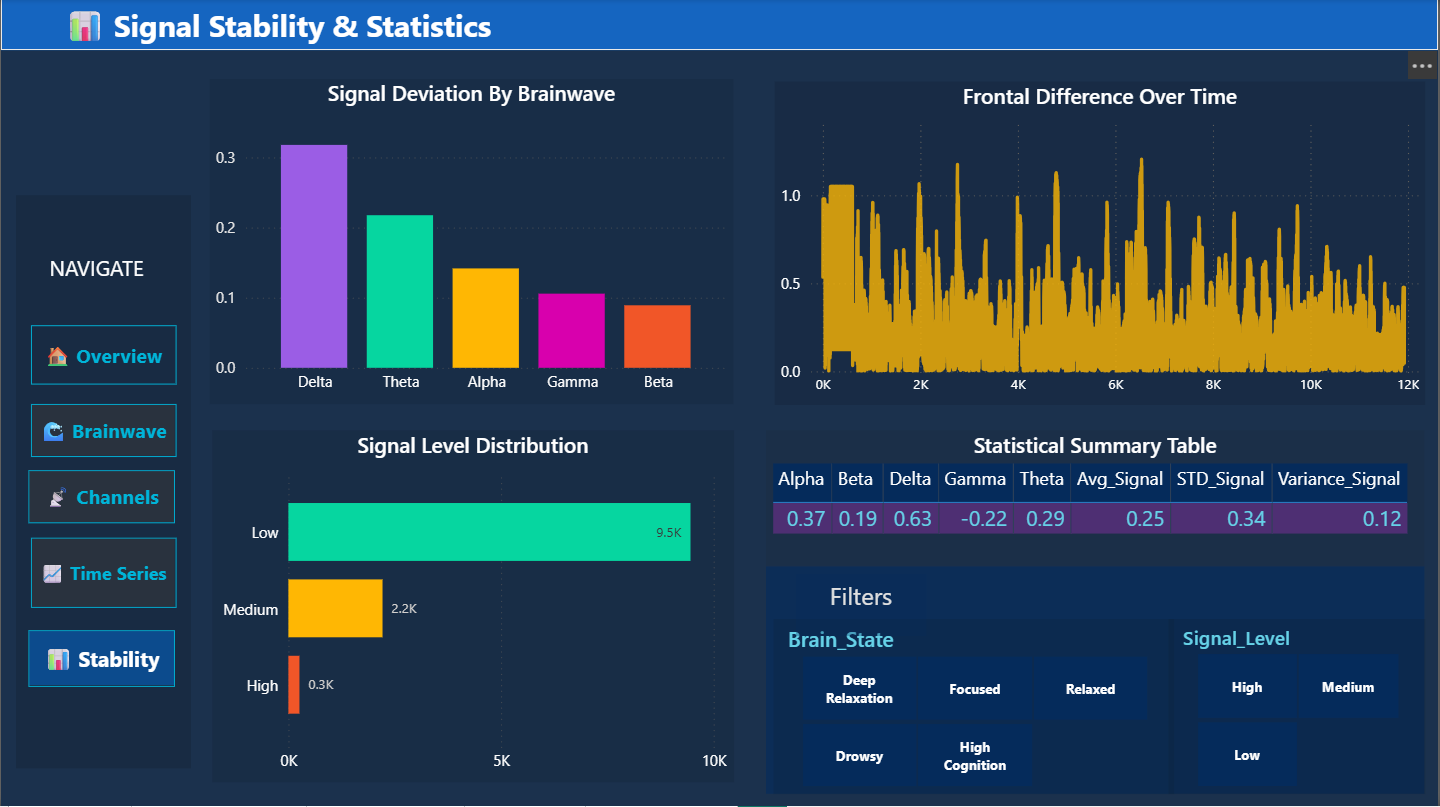

The dashboard page shown, as its layout file describes it:
{"tool":"powerbi","page":{"name":"Signal Stability","canvas":[1280,720],"ordinal":4},"visuals":[{"type":"clusteredColumnChart","title":"Signal Deviation By Brainwave","fields":{"Category":["EEG_Data.Brainwave"],"Y":["Table.STD_Signal"]},"box":[186.4,71,466.1,289.4],"z":0},{"type":"barChart","title":"Signal Level Distribution","fields":{"Category":["EEG_Data.Signal_Level"],"Y":["EEG_Data.Row_Count"]},"box":[188.2,383.6,464.5,313.7],"z":1000},{"type":"lineChart","title":"Frontal Difference Over Time","fields":{"Category":["EEG_Data.RecordID"],"Y":["Sum(EEG_Data.Frontal_Difference)"]},"box":[688.9,73.6,579.1,288.3],"z":2000},{"type":"tableEx","title":"Statistical Summary Table","fields":{"Values":["Intelligence.Avg_Alpha","Intelligence.Avg_Beta","Intelligence.Avg_Delta","Intelligence.Avg_Gamma","Intelligence.Avg_Theta","Intelligence.Avg_Signal","Table.STD_Signal","Table.Variance_Signal"]},"box":[681.6,383.6,586.3,120.6],"z":3000},{"type":"shape","box":[681.6,505.5,586.3,202.7],"z":4000},{"type":"slicer","fields":{"Values":["EEG_Data.Signal_Level"]},"box":[1039.7,552.4,228.5,156.2],"z":5000},{"type":"textbox","box":[0,0,1279.8,45.9],"z":6000},{"type":"slicer","fields":{"Values":["EEG_Data.Brain_State"]},"box":[688.3,552.4,357.2,156.2],"z":7000},{"type":"shape","box":[13.9,175.3,155.8,510.6],"z":9000},{"type":"actionButton","box":[26.4,360.3,129.4,47.3],"z":10000},{"type":"actionButton","box":[25,420.2,130.8,47.3],"z":11000},{"type":"actionButton","box":[26.4,480,129.4,62.6],"z":12000},{"type":"actionButton","box":[25,562.1,130.8,50.1],"z":13000},{"type":"actionButton","box":[26.4,290.8,129.4,52.9],"z":14000},{"type":"textbox","box":[30.6,221.2,109.9,44.5],"z":15000},{"type":"textbox","box":[708.2,511.5,115.8,55.5],"z":16000}]}

Visuals, with their boxes in screenshot pixels (x1, y1, x2, y2), scaled from the page's 1280x720 canvas onto the 1440x807 screenshot:
"Signal Deviation By Brainwave" clusteredColumnChart: bbox=[210, 80, 734, 404]
"Signal Level Distribution" barChart: bbox=[212, 430, 734, 782]
"Frontal Difference Over Time" lineChart: bbox=[775, 82, 1426, 406]
"Statistical Summary Table" tableEx: bbox=[767, 430, 1426, 565]
shape: bbox=[767, 567, 1426, 794]
slicer - EEG_Data.Signal_Level: bbox=[1170, 619, 1427, 794]
textbox: bbox=[0, 0, 1439, 51]
slicer - EEG_Data.Brain_State: bbox=[774, 619, 1176, 794]
shape: bbox=[16, 196, 191, 769]
actionButton: bbox=[30, 404, 175, 457]
actionButton: bbox=[28, 471, 175, 524]
actionButton: bbox=[30, 538, 175, 608]
actionButton: bbox=[28, 630, 175, 686]
actionButton: bbox=[30, 326, 175, 385]
textbox: bbox=[34, 248, 158, 298]
textbox: bbox=[797, 573, 927, 636]
